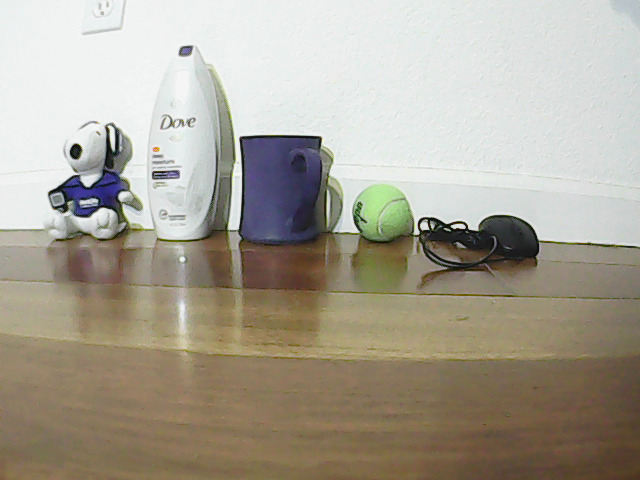ball: (356, 179, 411, 249)
mouse: (475, 199, 556, 258)
mug: (241, 125, 332, 243)
snoopy: (49, 108, 130, 248)
soap: (147, 39, 215, 242)
